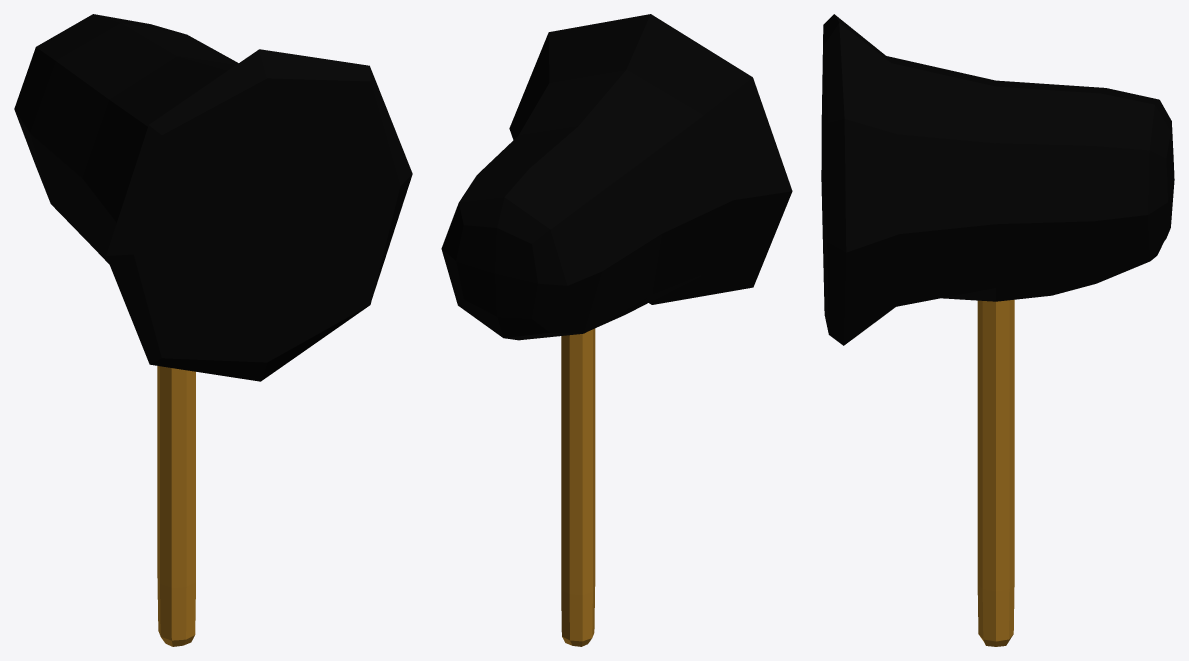
Rendered from weapon_hammer.fbx.
The picture shows the model from 3 angles, left to right: view 1: azimuth 30°, elevation 25°; view 2: azimuth 150°, elevation 25°; view 3: azimuth 270°, elevation 25°; orthographic projection. The views are drawn at different scales.
Visible parts, largest first — view 1: Cube; view 2: Cube; view 3: Cube.
Part boxes in pixels (<box>): Cube: <box>14,14,412,646</box>; Cube: <box>441,14,792,646</box>; Cube: <box>821,14,1174,646</box>.
Bounding box in the file's own units: 16.66 × 33.08 × 17.09.
1 material, 1 textured.
